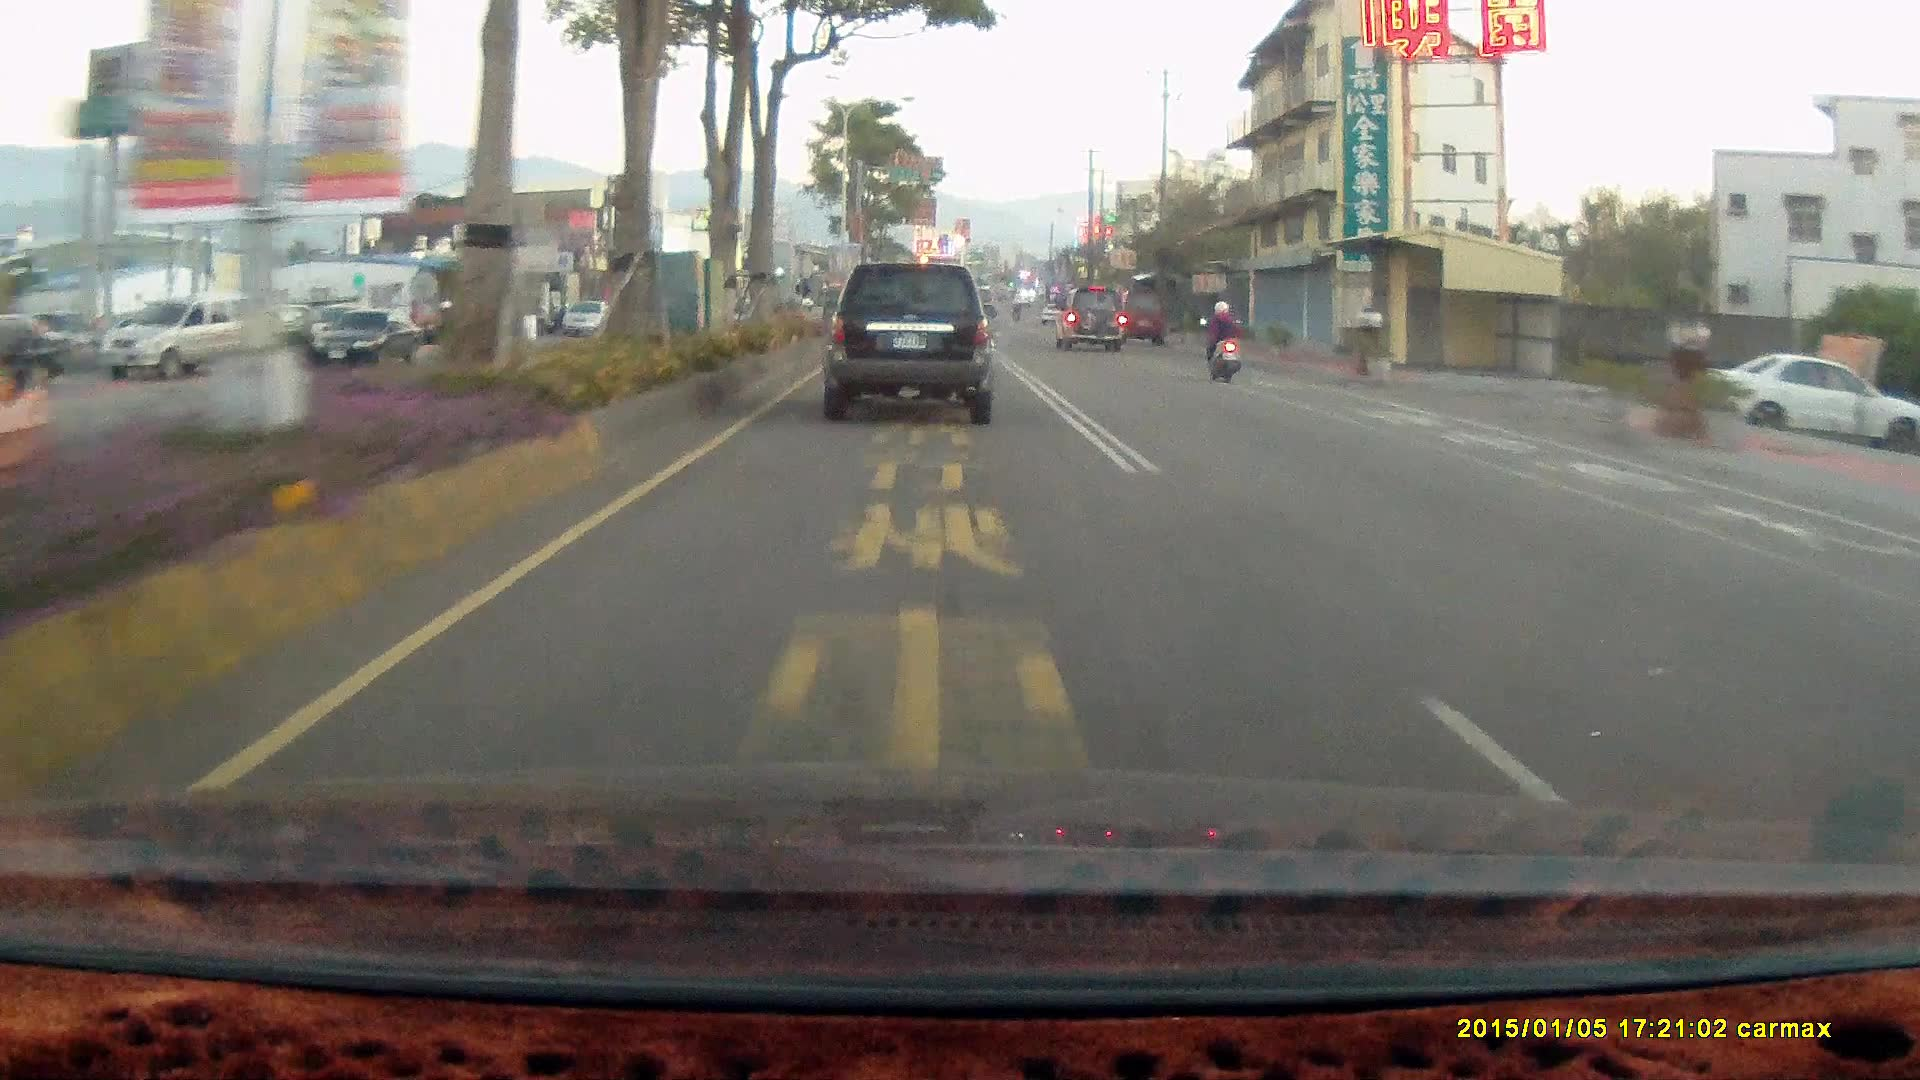rider: (1194, 293, 1252, 390), (1198, 296, 1242, 379)
vehicle: (814, 256, 1003, 421), (820, 262, 997, 425), (1711, 352, 1920, 450), (100, 294, 264, 381), (98, 294, 261, 379), (305, 307, 423, 371), (307, 306, 425, 368), (1058, 285, 1132, 356), (1052, 283, 1126, 350), (1114, 287, 1165, 343)
